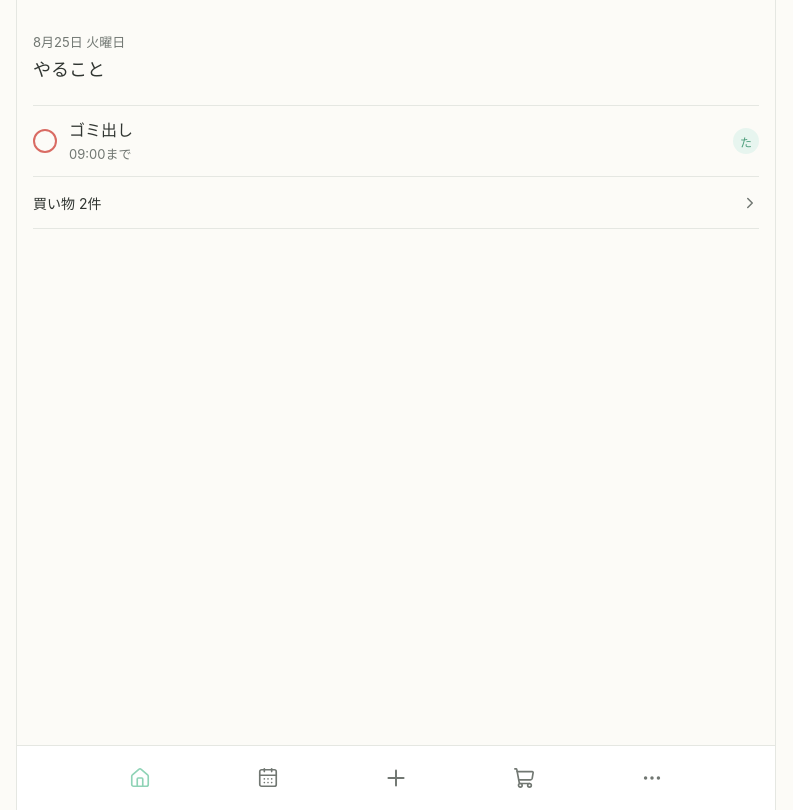
Test case: M2 Home › closes Home detail when completion starts even if the active row remains
Later steps or results of the test are not shown.
What coordinates should you click on to do the following:
click the button with aria-label "ゴミ出しの詳細"
I would click on:
 (101, 130)
Its box is [33,106,759,176].
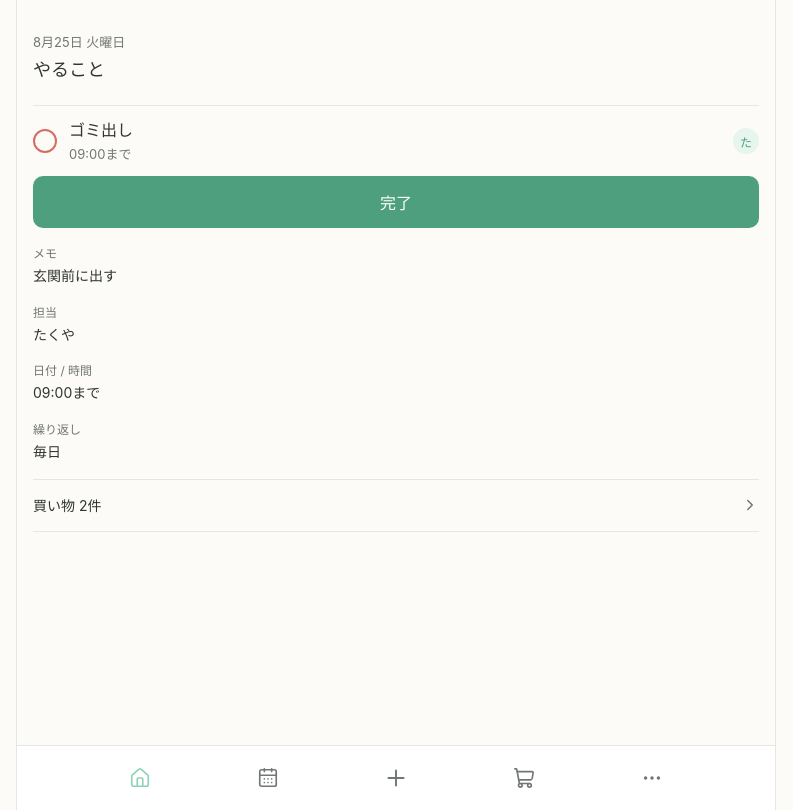
What coordinates should you click on to do the following:
click the button "完了"
I would click on:
 (396, 202)
Its box is [33,176,759,228].
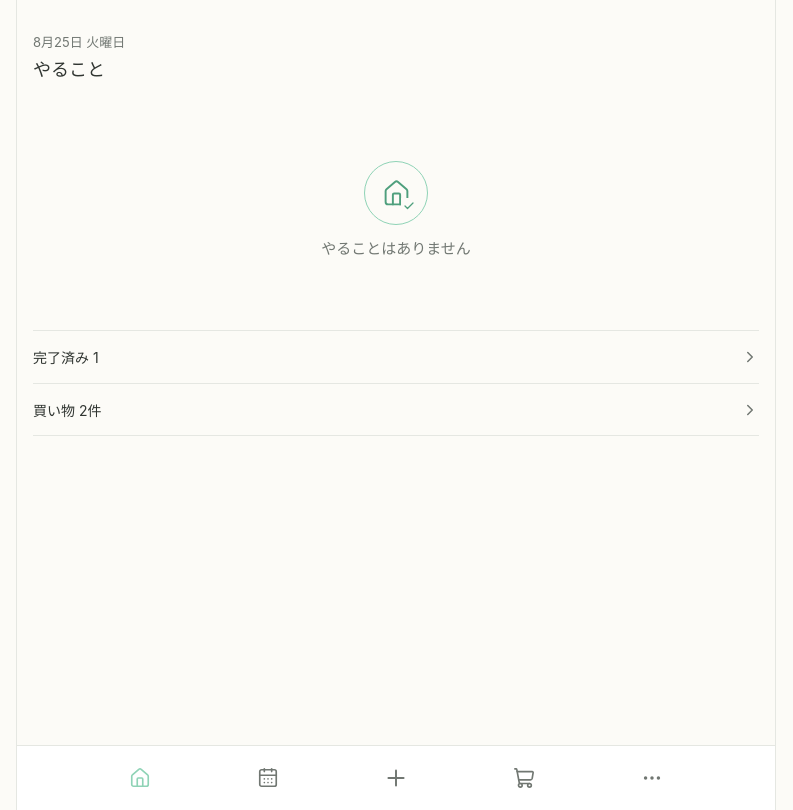
Expected: the text "完了済み 1" is shown, [33,347,99,367]
